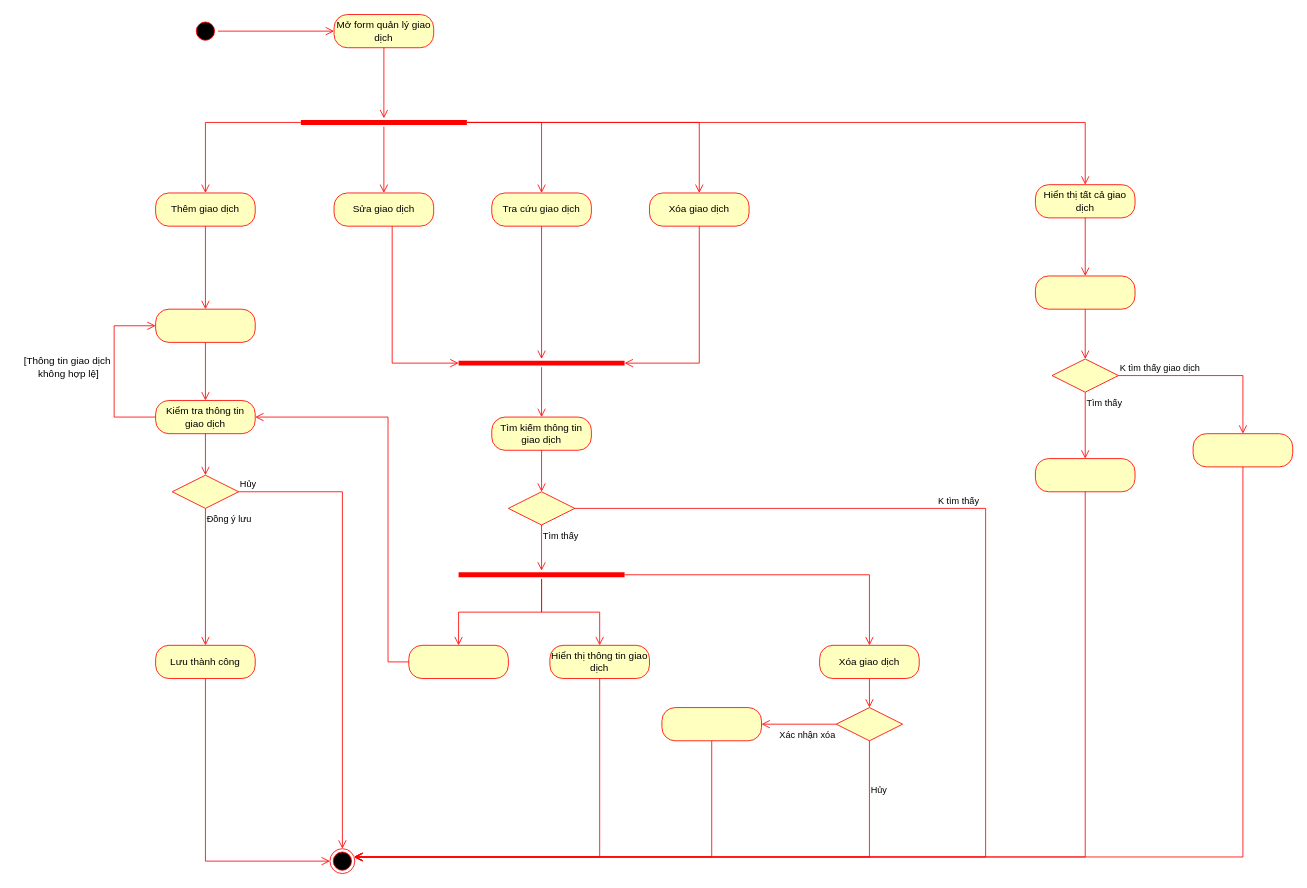
The diagram is 1307 pixels wide and 888 high, and some of its shapes have lost their labels. Each missing label, with the centre of its shape:
"Chưa có giao dịch" goes at pixel 1242 450.
"Hiển thị danh sách giao dịch" goes at pixel 1085 475.
"Nhập thông tin giao dịch" goes at pixel 205 325.
"Sửa thông tin giao dịch" goes at pixel 458 661.
"Tìm thấy giao dịch" goes at pixel 1085 292.
"Xóa thành công" goes at pixel 711 724.
